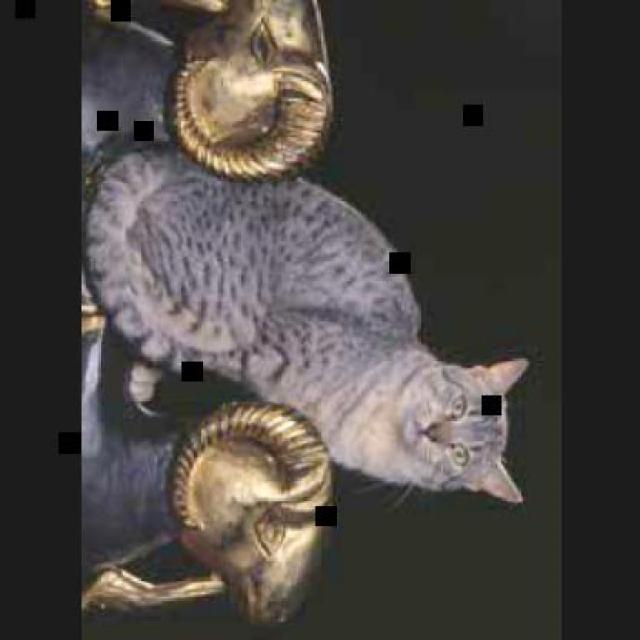unauthorized: (82, 140, 530, 509)
